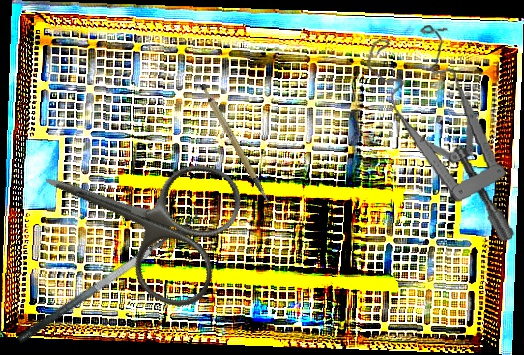Iris Scissors: (19, 110, 251, 318)
Scalpel Handle: (197, 76, 271, 212)
Spatula Surgical: (5, 200, 207, 345)
Speculum: (363, 18, 516, 254)
